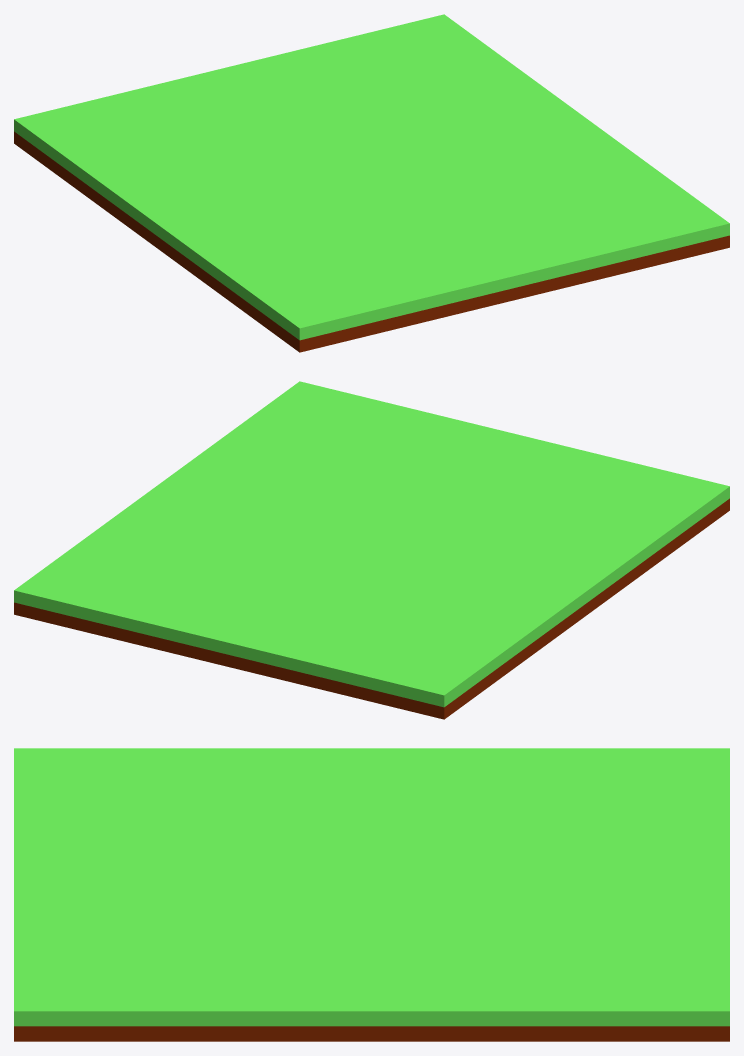
Rendered from escenarioTestizquierda1.fbx.
3 views of the same model, one above another, from view 1: azimuth 30°, elevation 25°; view 2: azimuth 150°, elevation 25°; view 3: azimuth 270°, elevation 25° (orthographic). The views are drawn at different scales.
Visible parts, largest first — view 1: Cube.007; view 2: Cube.007; view 3: Cube.007.
Part boxes in pixels (box(x1,y1,x2,y2)): Cube.007: box(14, 14, 729, 352); Cube.007: box(14, 381, 729, 719); Cube.007: box(14, 748, 729, 1041).
Size of the model in its own units: 4528 by 244 by 5207.
